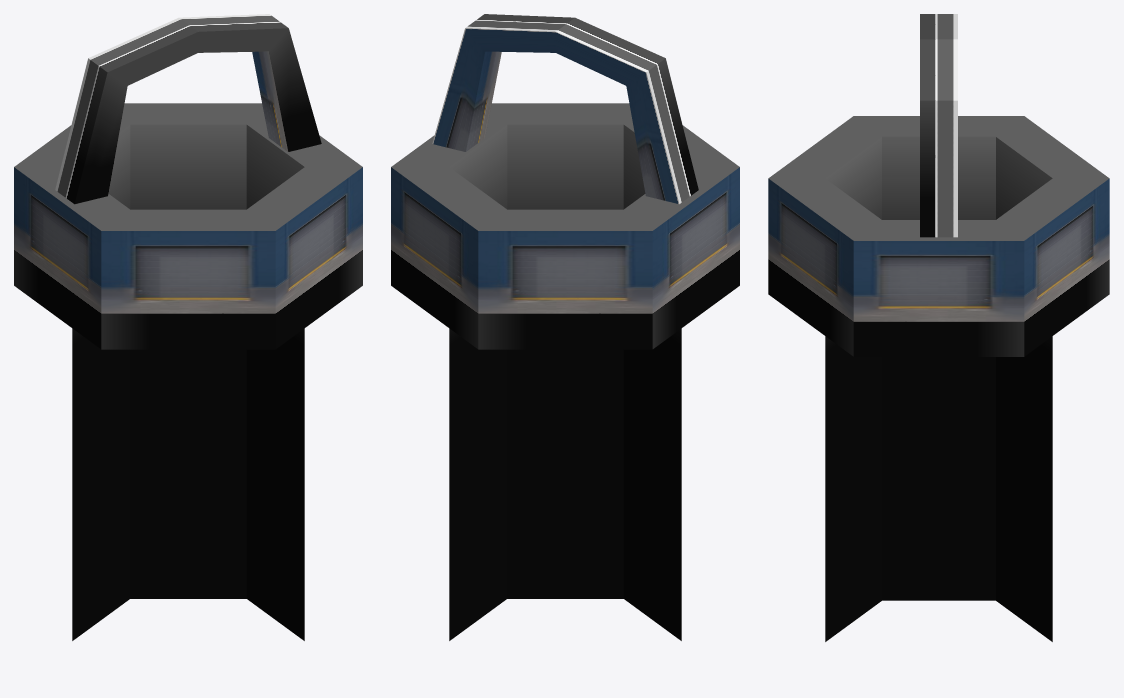
File: resource_node.glb
The picture shows the model from 3 angles, left to right: view 1: azimuth 30°, elevation 25°; view 2: azimuth 150°, elevation 25°; view 3: azimuth 270°, elevation 25°; orthographic projection. The views are drawn at different scales.
Visible parts, largest first — view 1: Cylinder.001_Cylinder.002; view 2: Cylinder.001_Cylinder.002; view 3: Cylinder.001_Cylinder.002.
Boxes of the visible parts, x1,y1,x2,y2 form: Cylinder.001_Cylinder.002: (14,14,362,640); Cylinder.001_Cylinder.002: (391,14,739,640); Cylinder.001_Cylinder.002: (768,14,1109,641).
Size of the model in its own units: 15.59 by 35.1 by 18.
1 material, 1 textured.
